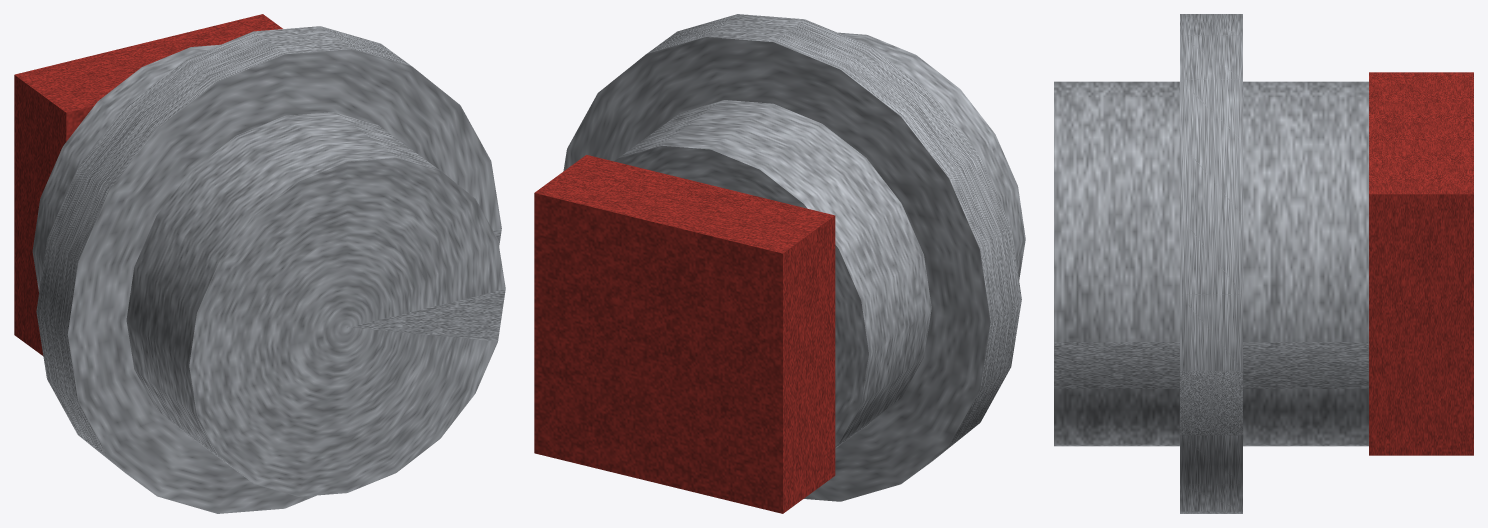
Rendered from motor_hub.obj.
3 views of the same model, side by side, from view 1: azimuth 30°, elevation 25°; view 2: azimuth 150°, elevation 25°; view 3: azimuth 270°, elevation 25° (orthographic).
Bounding box in the file's own units: 0.096 × 0.096 × 0.08.
2 materials, 2 textured.
